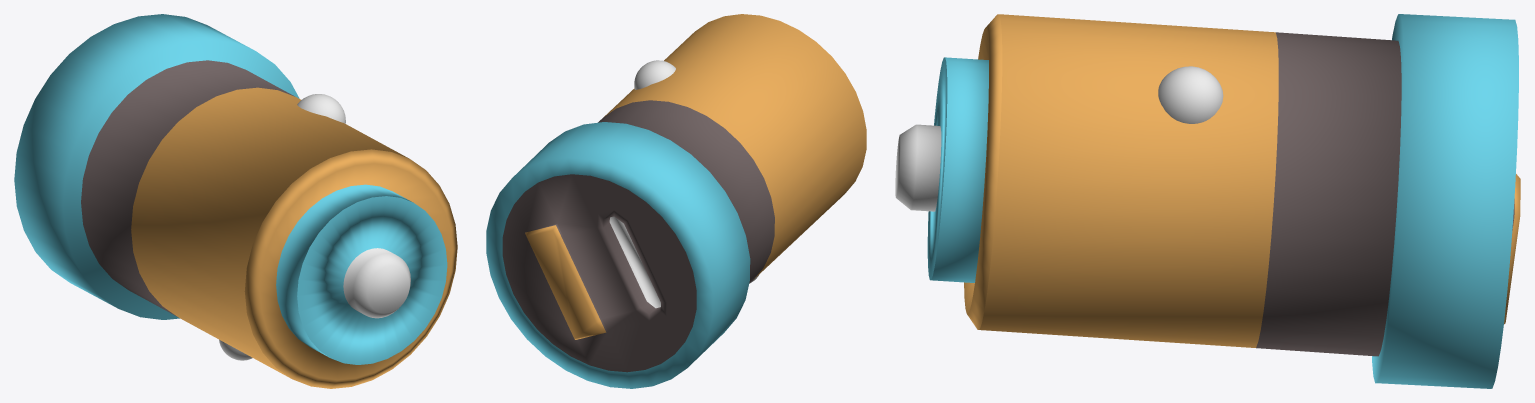
Rendered from lightbulbFixed.glb.
3 views of the same model, side by side, from view 1: azimuth 30°, elevation 25°; view 2: azimuth 150°, elevation 25°; view 3: azimuth 270°, elevation 25° (orthographic). The views are drawn at different scales.
Visible parts, largest first — view 1: Cylinder.005; view 2: Cylinder.005; view 3: Cylinder.005.
Boxes of the visible parts, box(x1,y1,x2,y2) form: Cylinder.005: box(14, 14, 457, 388); Cylinder.005: box(486, 14, 866, 388); Cylinder.005: box(895, 14, 1520, 388).
Size of the model in its own units: 2.18 by 2.24 by 3.63.
